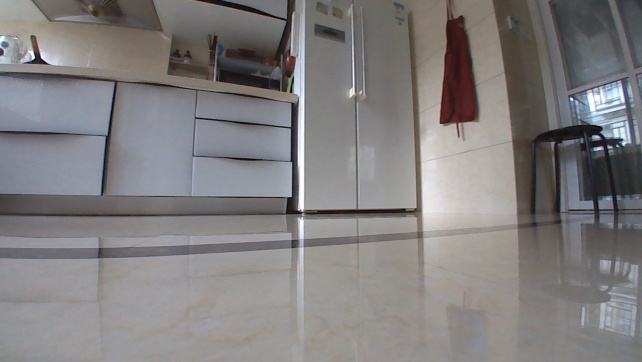cupboard: (0, 59, 300, 218)
refrigerator: (286, 0, 422, 218)
